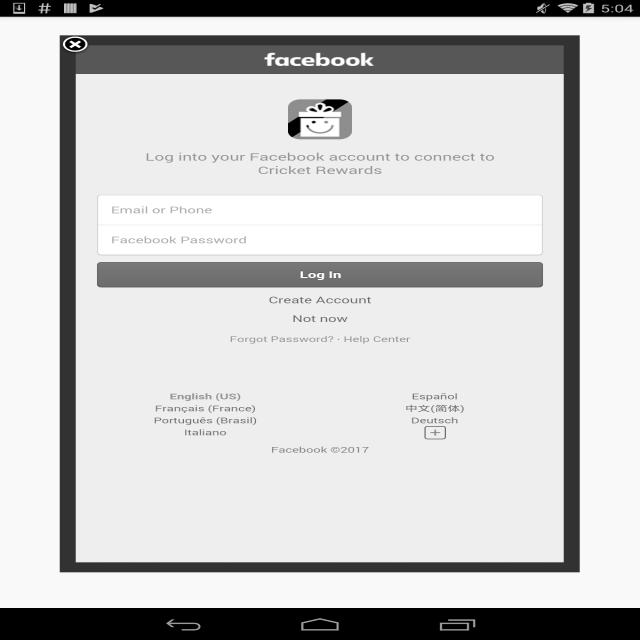Button: (88, 259, 554, 294)
EditText: (94, 192, 550, 254)
ImageButton: (62, 37, 91, 56)
ImageView: (277, 95, 361, 141)
TextView: (132, 147, 511, 179), (147, 383, 257, 442), (389, 386, 485, 422), (250, 49, 383, 74)
